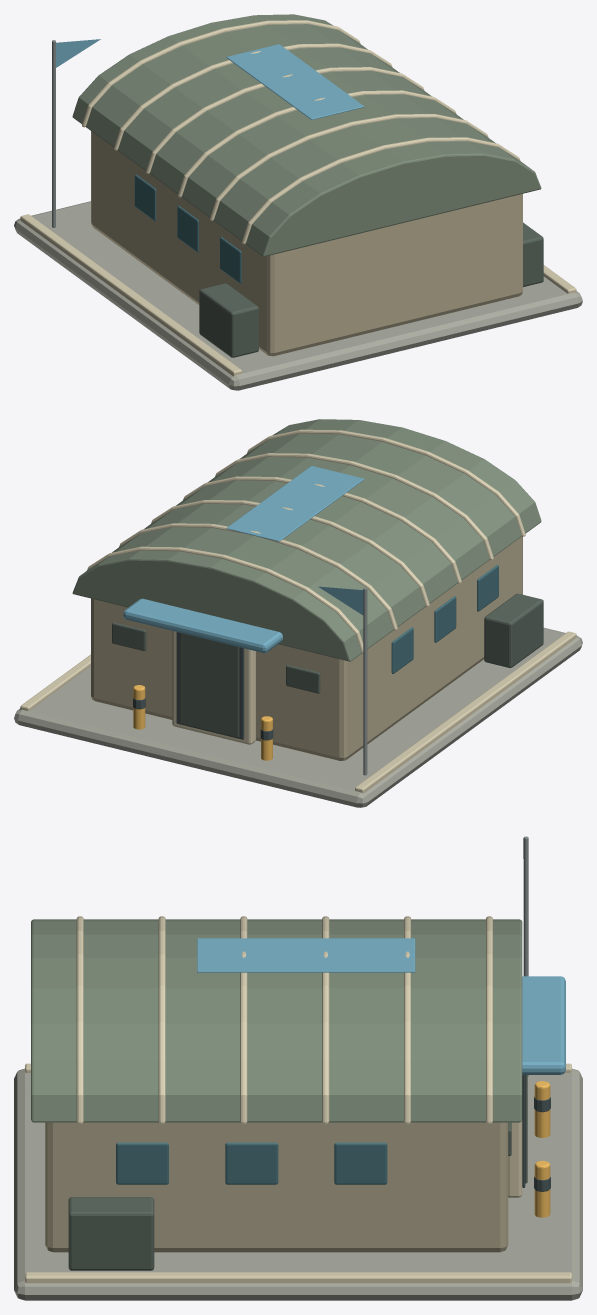
Rendered from barracks.glb.
The picture shows the model from 3 angles, top to bottom: view 1: azimuth 30°, elevation 25°; view 2: azimuth 150°, elevation 25°; view 3: azimuth 270°, elevation 25°; orthographic projection. The views are drawn at different scales.
Parts seen in each view (by area): view 1: body; view 2: body; view 3: body.
Boxes of the visible parts, x1=… form: body: x1=14, y1=14, x2=582, y2=390; body: x1=14, y1=419, x2=582, y2=807; body: x1=14, y1=836, x2=582, y2=1300.
Size of the model in its own units: 6.7 by 3.68 by 7.3.
